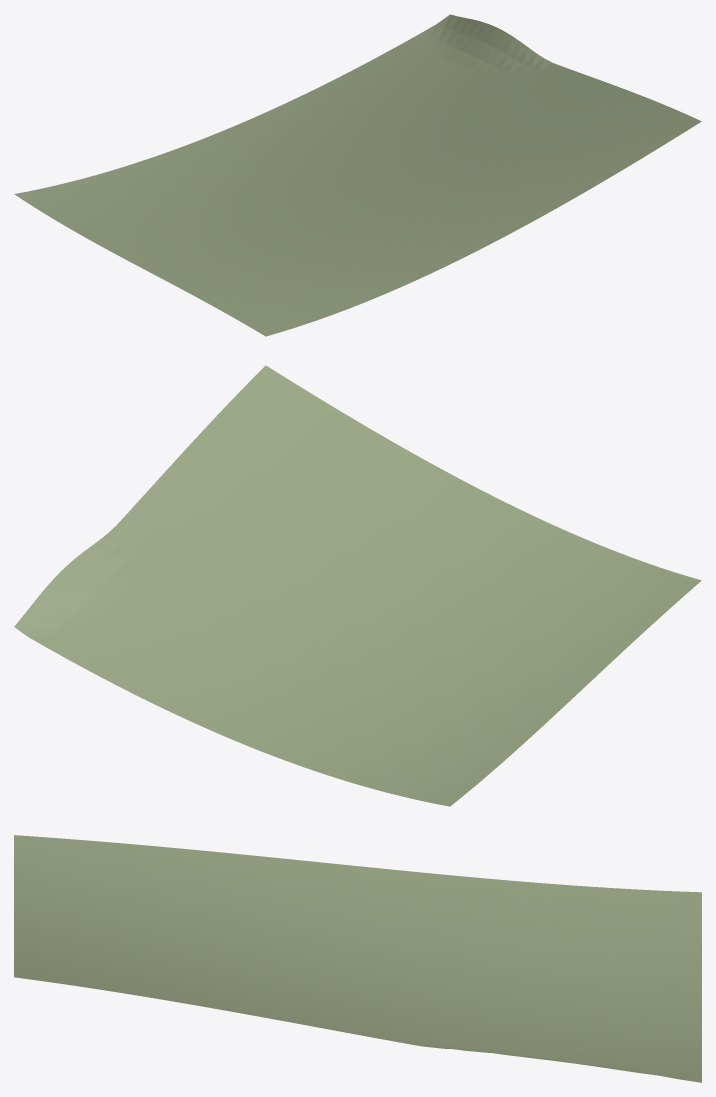
The model's file is expanse-24-16.glb.
3 views of the same model, one above another, from view 1: azimuth 30°, elevation 25°; view 2: azimuth 150°, elevation 25°; view 3: azimuth 270°, elevation 25° (orthographic). The views are drawn at different scales.
Parts seen in each view (by area): view 1: expanse-24-16; view 2: expanse-24-16; view 3: expanse-24-16.
Part boxes in pixels (bbox=[...]): expanse-24-16: bbox=[14, 14, 701, 336]; expanse-24-16: bbox=[14, 365, 701, 806]; expanse-24-16: bbox=[14, 835, 701, 1082].
Bounding box in the file's own units: 256 × 85.35 × 256.
